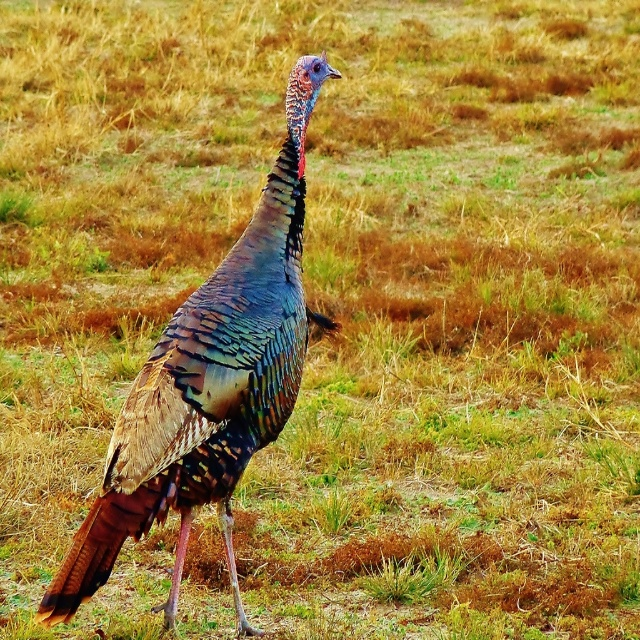Turkey: (33, 50, 342, 640)
